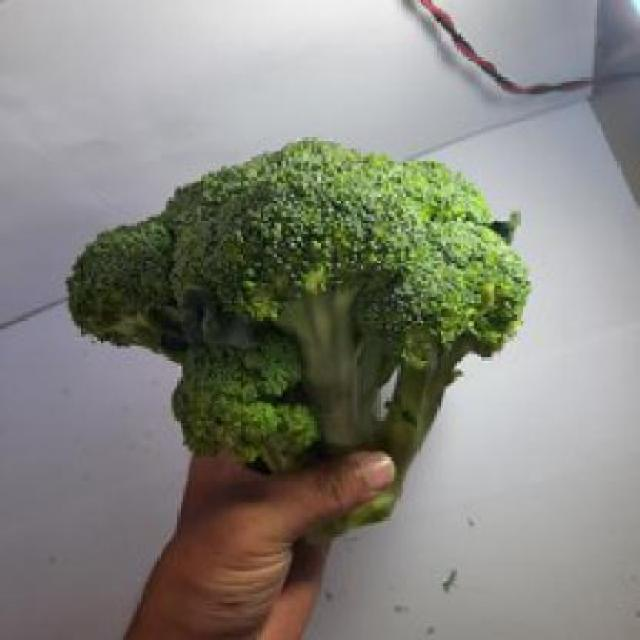broccoli: (84, 146, 534, 531)
